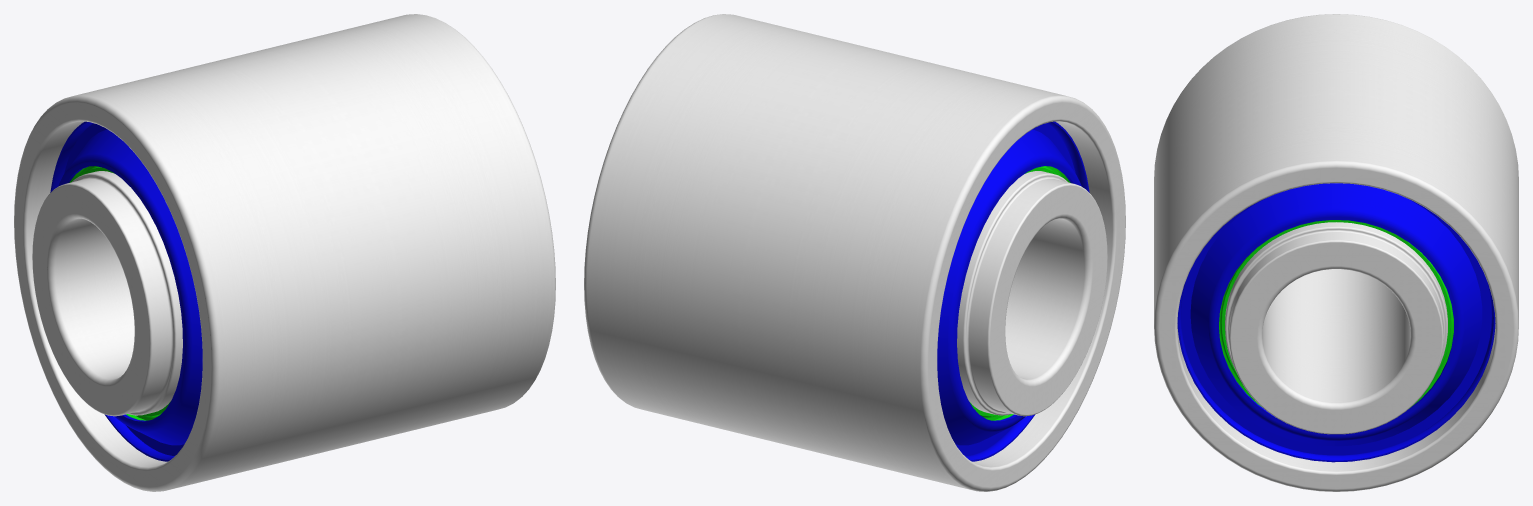
The model's file is 5203-KYY3.glb.
3 renders of one model, left to right at view 1: azimuth 30°, elevation 25°; view 2: azimuth 150°, elevation 25°; view 3: azimuth 270°, elevation 25°, orthographic. The views are drawn at different scales.
Visible parts, largest first — view 1: texture-2, texture, texture-3; view 2: texture-2, texture, texture-3; view 3: texture-2, texture, texture-3, texture-4.
Part boxes in pixels (<box>): texture-2: <box>14,14,555,491</box>; texture: <box>32,171,182,416</box>; texture-3: <box>50,121,202,461</box>; texture-2: <box>584,14,1125,491</box>; texture: <box>957,171,1107,416</box>; texture-3: <box>937,121,1089,461</box>; texture-2: <box>1154,14,1518,491</box>; texture: <box>1225,222,1447,434</box>; texture-3: <box>1177,183,1495,462</box>; texture-4: <box>1219,220,1453,408</box>.
Size of the model in its own units: 0.0441 by 0.04 by 0.04.
6 materials, 5 textured.
